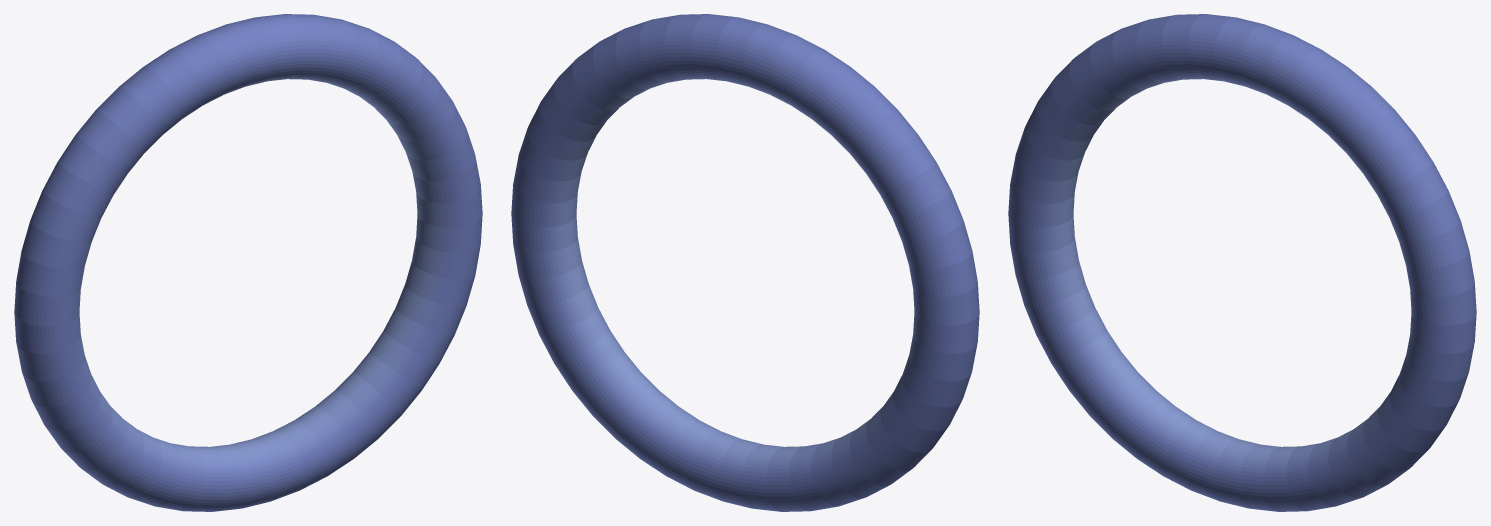
3 views of the same model, side by side, from view 1: azimuth 30°, elevation 25°; view 2: azimuth 150°, elevation 25°; view 3: azimuth 330°, elevation 25° (orthographic).
Parts seen in each view (by area): view 1: world; view 2: world; view 3: world.
Boxes of the visible parts, x1,y1,x2,y2 form: world: [14, 14, 482, 511]; world: [511, 14, 979, 511]; world: [1008, 14, 1476, 511].
Size of the model in its own units: 22.8 by 22.76 by 2.79.
